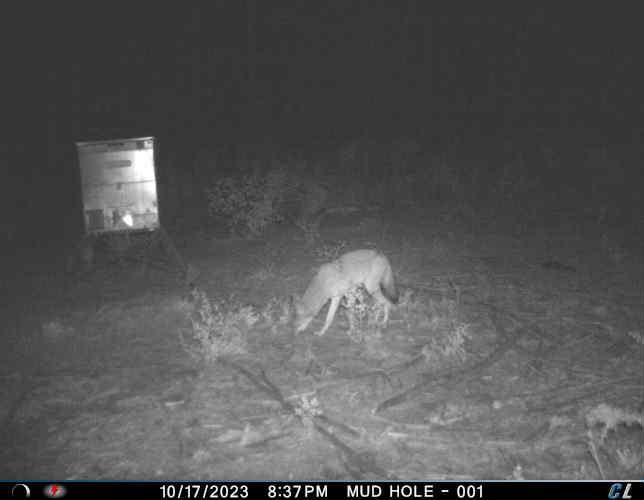Coyote: (288, 247, 399, 338)
